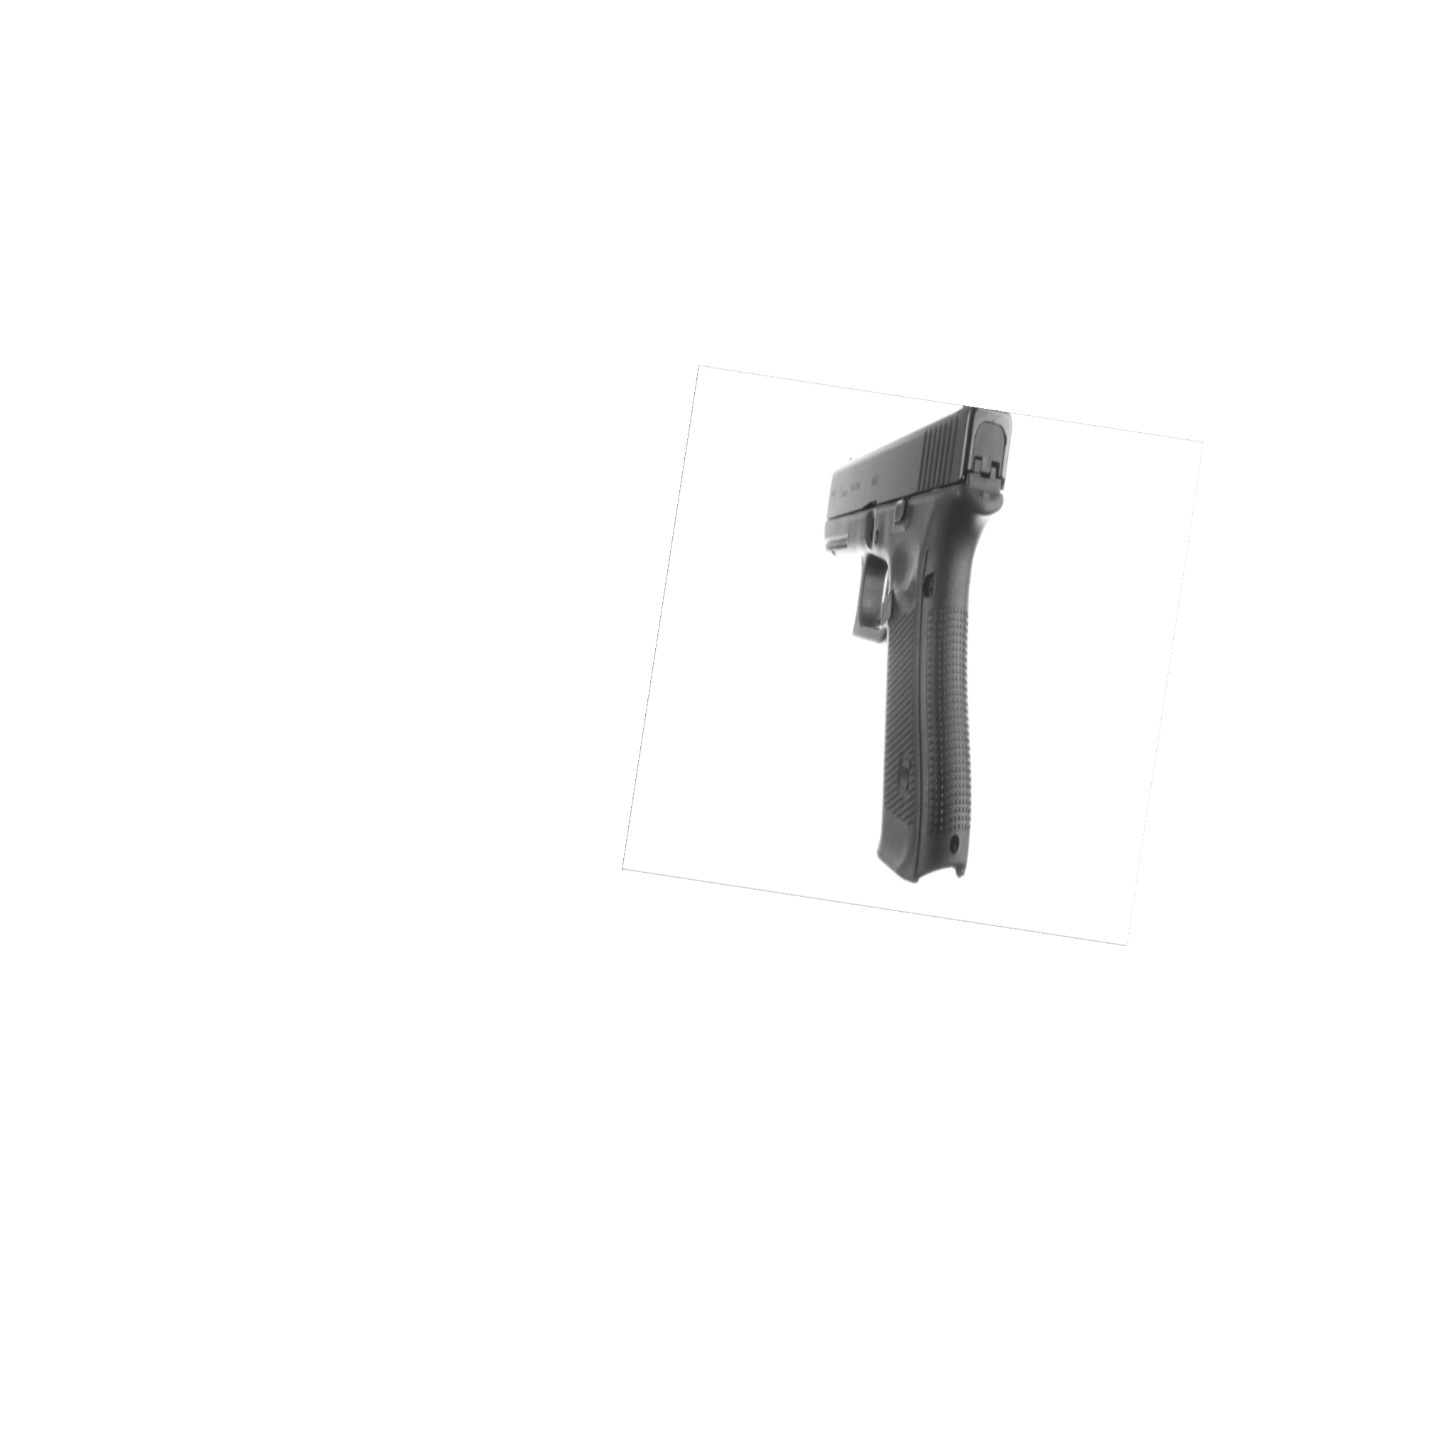gun: (818, 395, 1046, 890)
